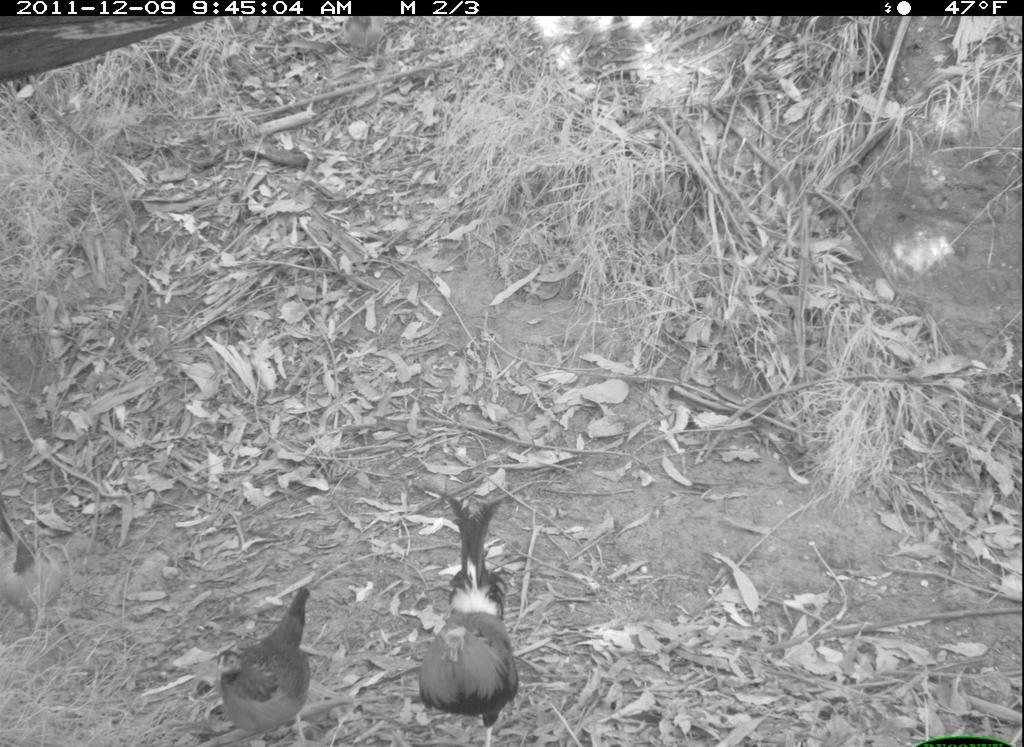bird: (417, 489, 529, 747), (201, 578, 332, 733)
